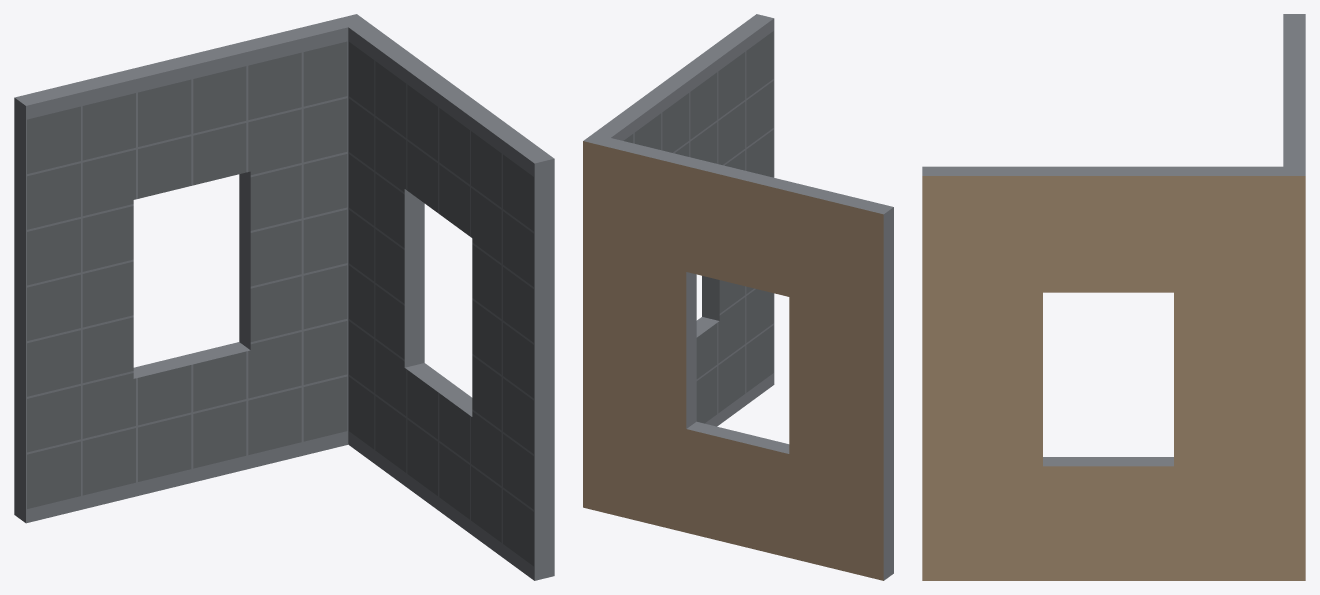
Rendered from Wall2_C7_09.fbx.
3 renders of one model, left to right at view 1: azimuth 30°, elevation 25°; view 2: azimuth 150°, elevation 25°; view 3: azimuth 270°, elevation 25°, orthographic. The views are drawn at different scales.
Parts seen in each view (by area): view 1: Wall2_C7_09; view 2: Wall2_C7_09; view 3: Wall2_C7_09.
Part boxes in pixels (x1=…): Wall2_C7_09: x1=14, y1=14, x2=554, y2=580; Wall2_C7_09: x1=583, y1=14, x2=893, y2=580; Wall2_C7_09: x1=922, y1=14, x2=1305, y2=580.
Bounding box in the file's own units: 258 × 300 × 258.
